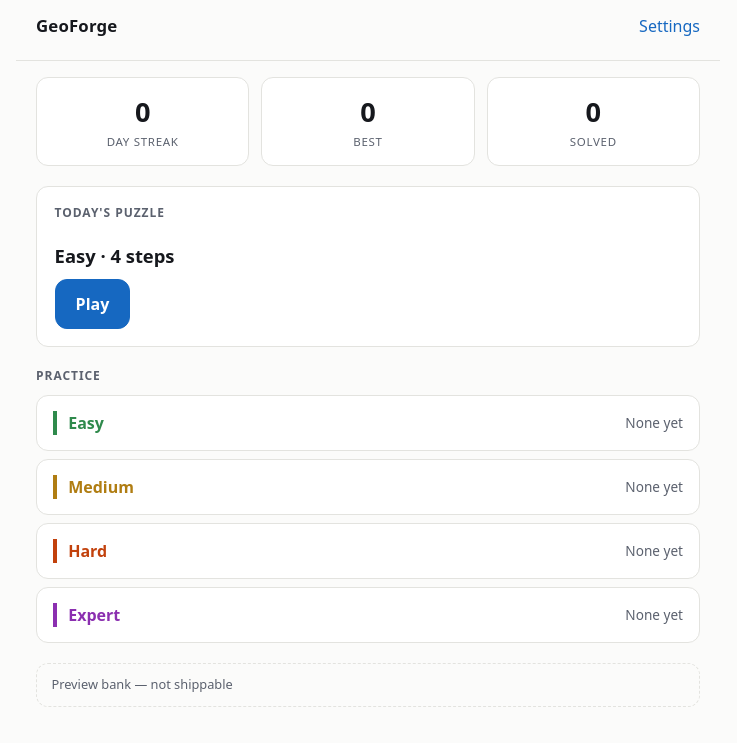
Test: playing a puzzle › marks a solve assisted once every hint was taken
The width and height of the screenshot is (737, 743).
Expected: the heading "Practice" is shown, left=36, top=367, right=101, bottom=384
Click the button "Easy None yet".
click(78, 423)  # box left=36, top=395, right=700, bottom=451
(page scrolled)
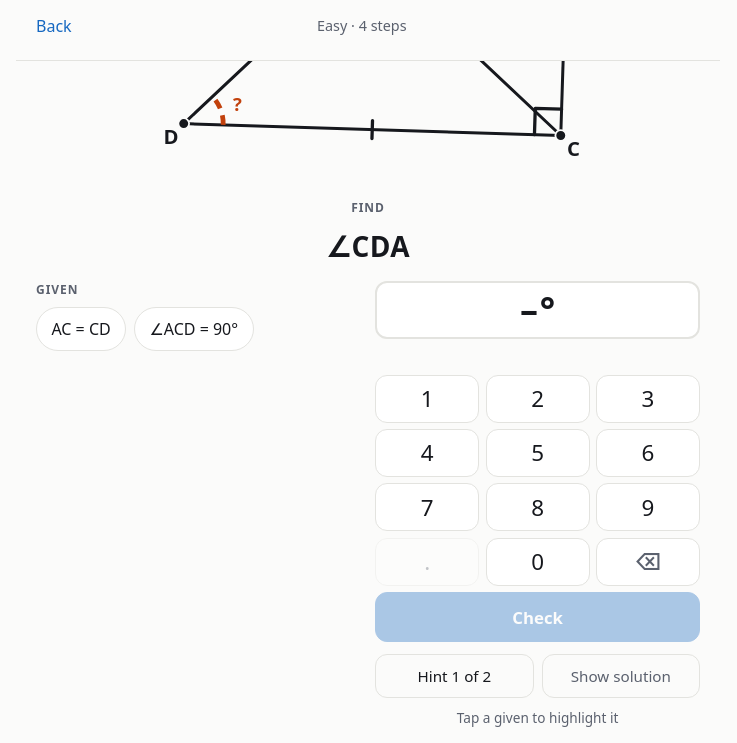
Expected: the text "∠CDA" is shown, left=326, top=227, right=410, bottom=265
Click the button "Hint 1 of 2".
click(454, 676)  # box left=375, top=654, right=534, bottom=698
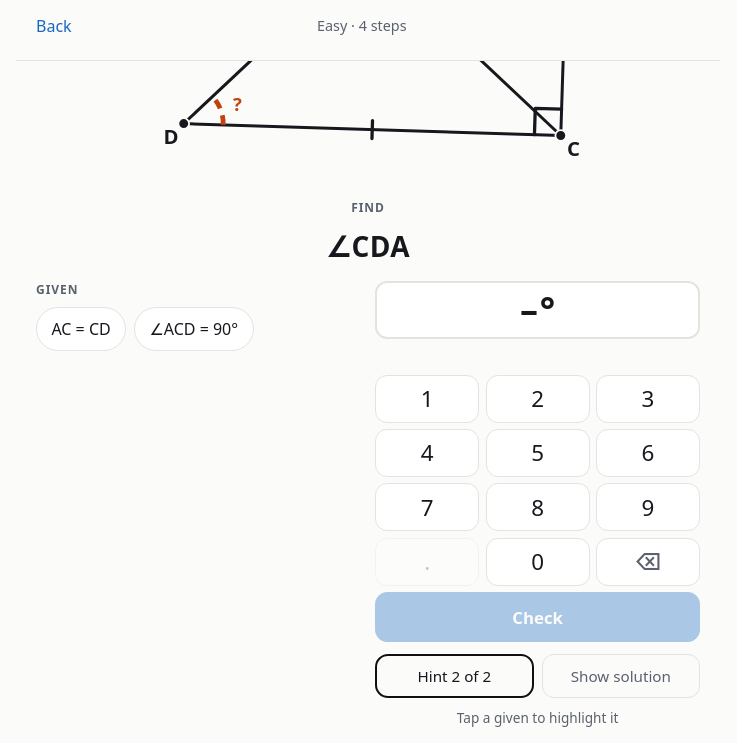
Click the button "Hint 2 of 2".
click(454, 676)  # box left=375, top=654, right=534, bottom=698
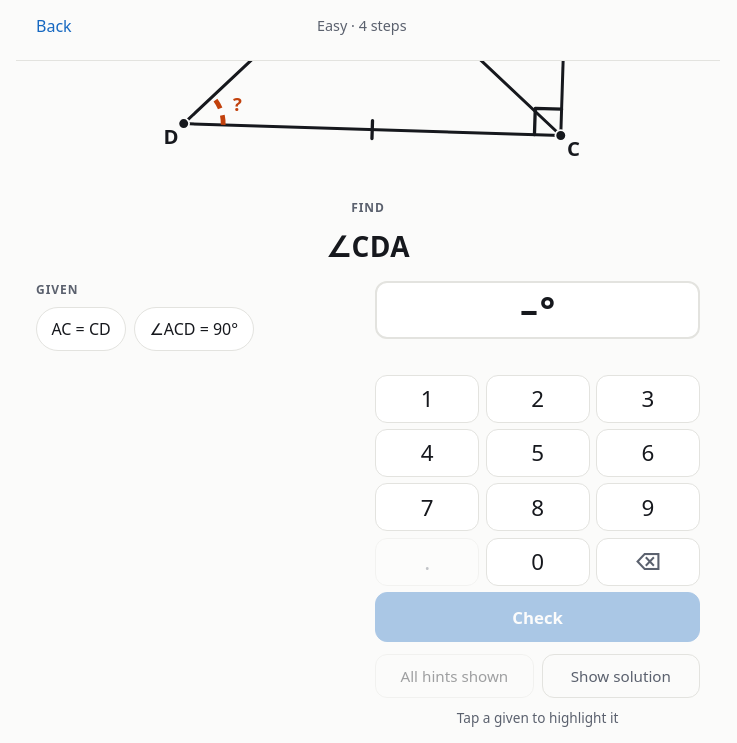
Click the button "4".
click(427, 453)  # box left=375, top=429, right=479, bottom=477
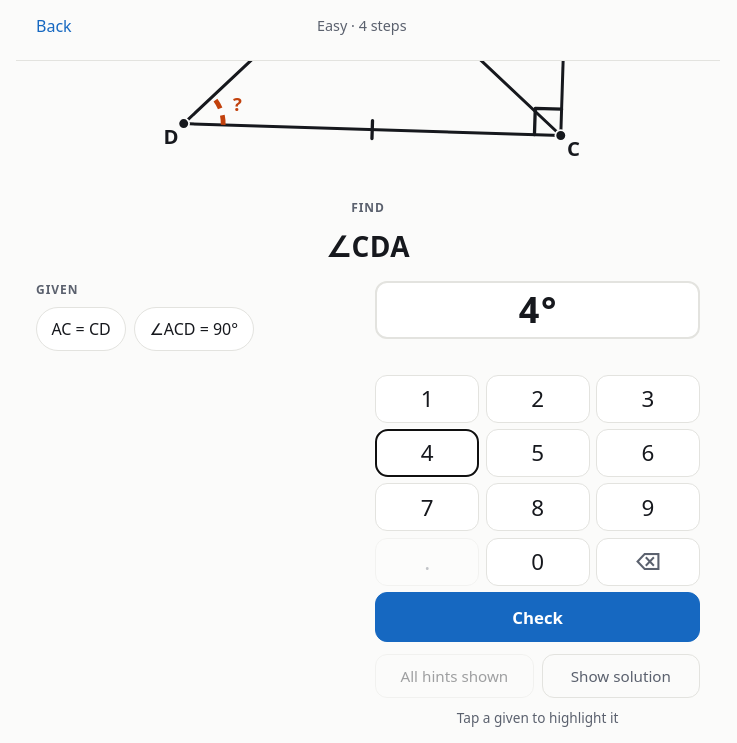
Click the button "5".
click(538, 453)  # box left=486, top=429, right=590, bottom=477
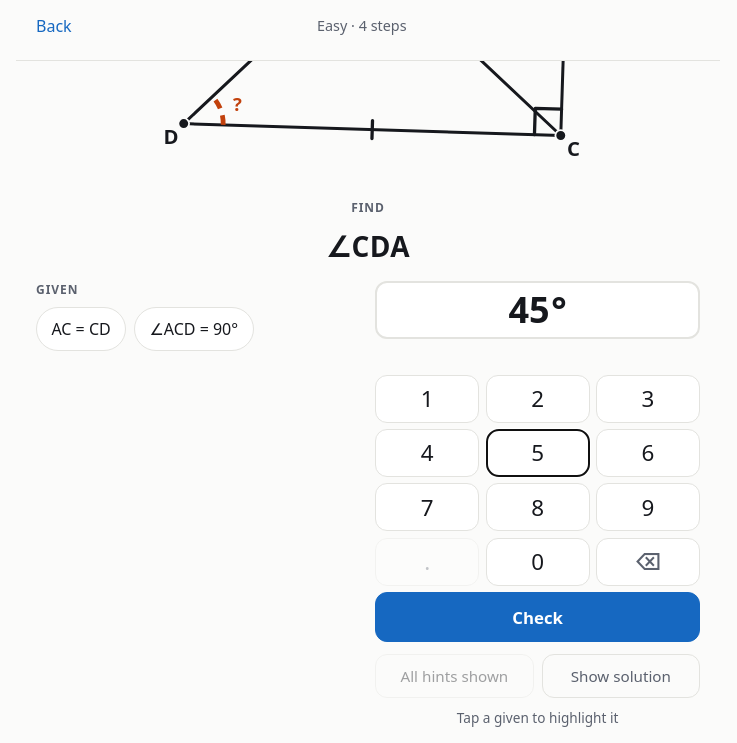
Click the button "Check".
click(538, 617)  # box left=375, top=592, right=700, bottom=642
(page scrolled)
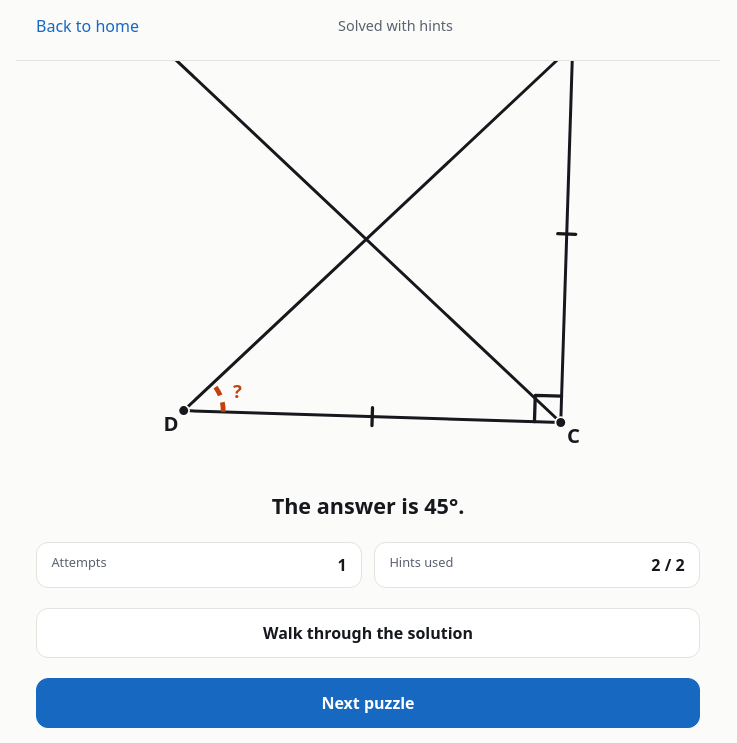
Expected: the text "Solved with hints" is shown, left=338, top=16, right=453, bottom=35
